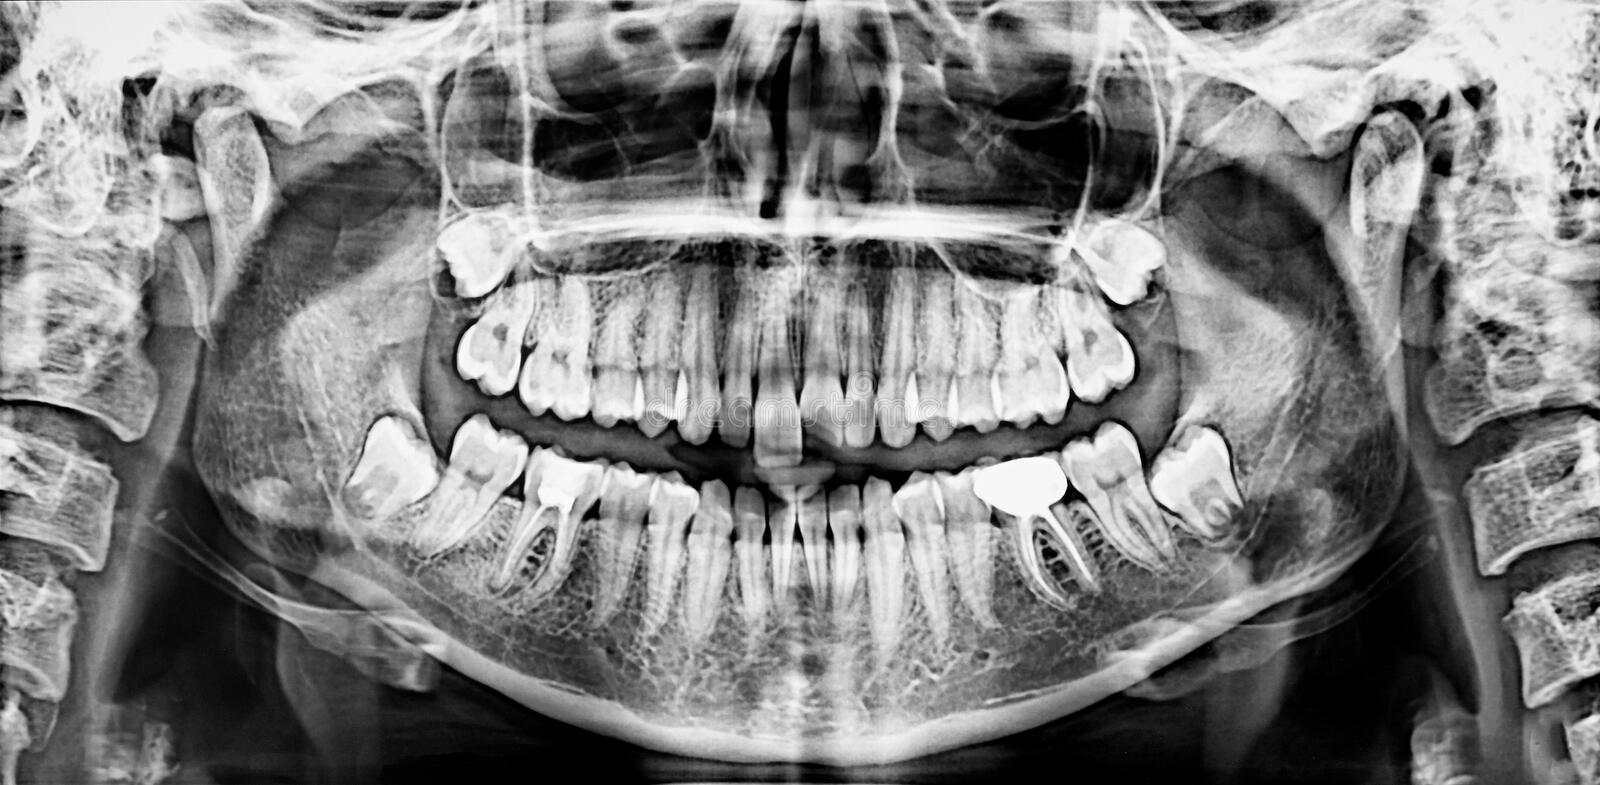canine: (869, 257, 921, 452), (861, 468, 899, 669), (681, 257, 720, 446), (694, 465, 735, 645)
incisor: (752, 277, 805, 478), (806, 269, 844, 454), (821, 475, 863, 635), (723, 261, 758, 452), (736, 473, 774, 627), (795, 474, 835, 617), (847, 267, 876, 452), (767, 472, 797, 621)
molar: (1059, 415, 1183, 574), (432, 404, 529, 561), (524, 249, 601, 433), (994, 269, 1071, 443), (516, 441, 595, 609), (346, 391, 438, 528), (1153, 418, 1244, 550), (1054, 263, 1124, 422), (423, 193, 537, 289), (945, 259, 1000, 441), (464, 277, 536, 403), (1081, 215, 1161, 300)
premolar: (936, 453, 1002, 652), (893, 460, 956, 665), (593, 462, 649, 633), (594, 259, 645, 444), (644, 261, 689, 440), (916, 256, 958, 444), (648, 461, 690, 643)
